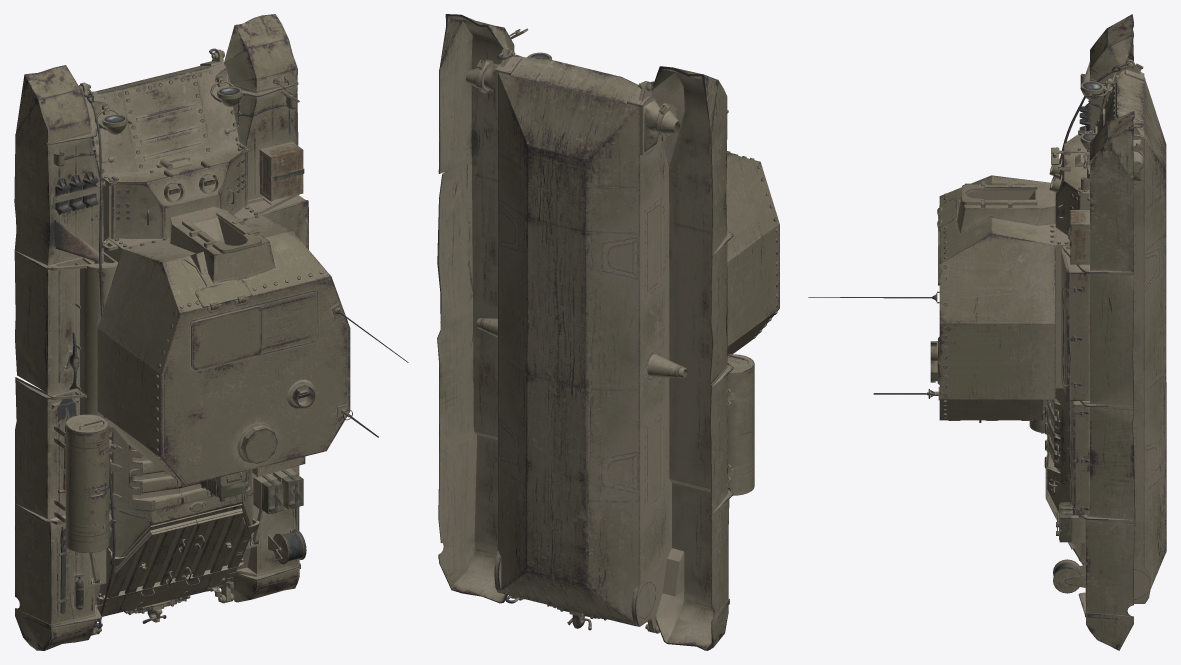
File: Hull.glb
3 views of the same model, side by side, from view 1: azimuth 30°, elevation 25°; view 2: azimuth 150°, elevation 25°; view 3: azimuth 270°, elevation 25° (orthographic). The views are drawn at different scales.
Parts seen in each view (by area): view 1: set_0_group_0; view 2: set_0_group_0; view 3: set_0_group_0.
Part boxes in pixels (x1,y1,x2,y2): set_0_group_0: (14,14,408,650); set_0_group_0: (437,14,779,650); set_0_group_0: (808,14,1166,650).
Bounding box in the file's own units: 2.79 × 5.68 × 3.5.
1 material, 1 textured.
